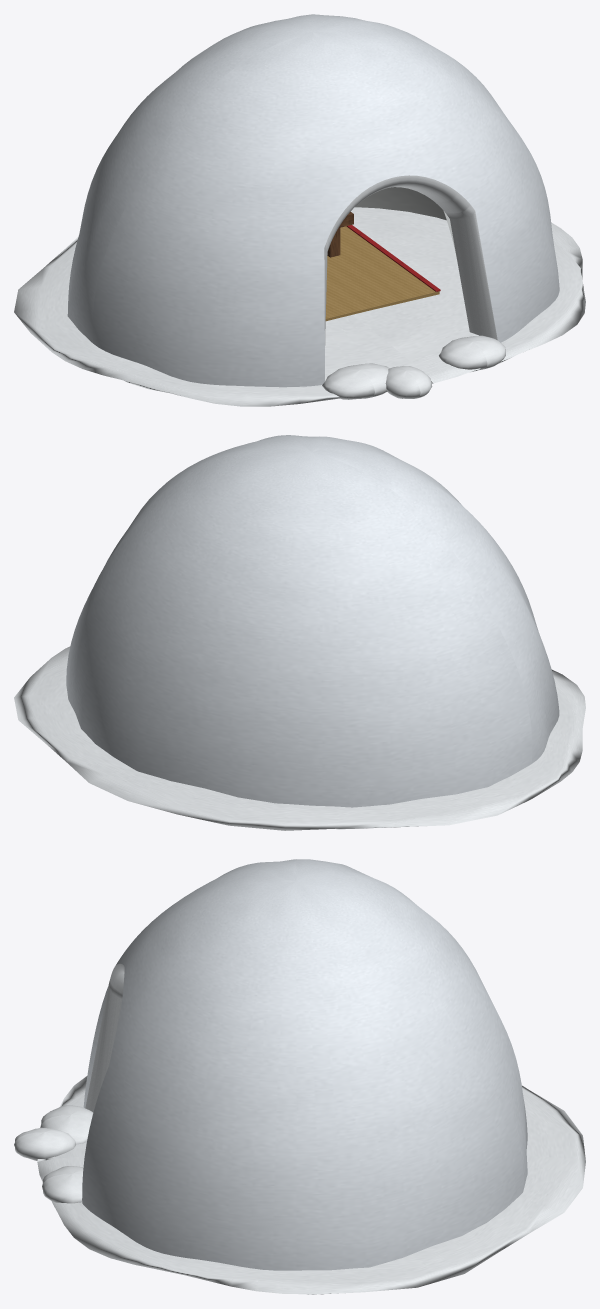
File: nyanisyarud-snow-kamakura.glb
The picture shows the model from 3 angles, top to bottom: view 1: azimuth 30°, elevation 25°; view 2: azimuth 150°, elevation 25°; view 3: azimuth 270°, elevation 25°; orthographic projection. The views are drawn at different scales.
Parts seen in each view (by area): view 1: Kamakura | front +Z; view 2: Kamakura | front +Z; view 3: Kamakura | front +Z.
Boxes of the visible parts, <box> form: Kamakura | front +Z: <box>14,14,585,406</box>; Kamakura | front +Z: <box>14,435,585,830</box>; Kamakura | front +Z: <box>14,859,585,1294</box>.
Size of the model in its own units: 3.82 by 1.95 by 3.48.
Materials: 7 (7 with a texture image).
